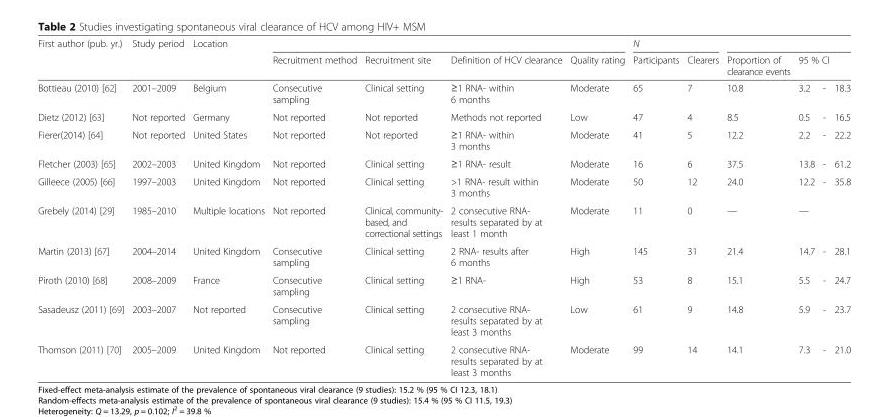table: (37, 37, 849, 377)
table column: (446, 37, 565, 377), (267, 37, 360, 377), (37, 37, 127, 377), (360, 37, 446, 377), (188, 37, 267, 377), (722, 37, 793, 377), (565, 37, 628, 377), (127, 37, 188, 377), (628, 37, 682, 377), (682, 37, 722, 377), (793, 37, 818, 377), (829, 37, 849, 377), (818, 37, 829, 377)
table column header: (37, 37, 849, 78)
table row: (37, 299, 849, 340), (37, 201, 849, 241), (37, 340, 849, 377), (37, 78, 849, 107), (37, 125, 849, 154), (37, 172, 849, 201), (37, 241, 849, 270), (37, 270, 849, 299), (37, 51, 849, 78), (37, 107, 849, 125), (37, 154, 849, 172), (37, 37, 849, 51)
table spanning cell: (446, 37, 565, 78), (267, 37, 360, 78), (37, 37, 127, 78), (360, 37, 446, 78), (188, 37, 267, 78), (722, 37, 793, 78), (565, 37, 628, 78), (127, 37, 188, 78), (793, 201, 849, 241), (793, 51, 849, 78), (628, 37, 722, 51)
